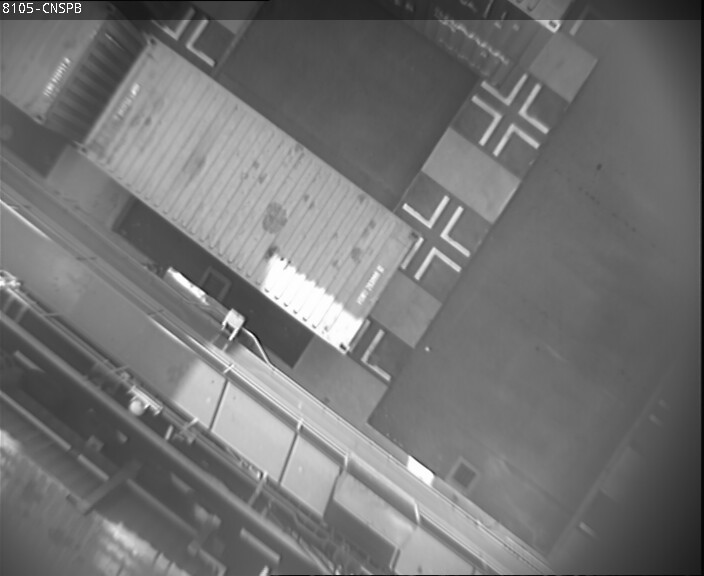groundmarker_1: (403, 194, 474, 260), (471, 90, 542, 156), (148, 3, 219, 69), (480, 73, 550, 139), (341, 319, 396, 378)
